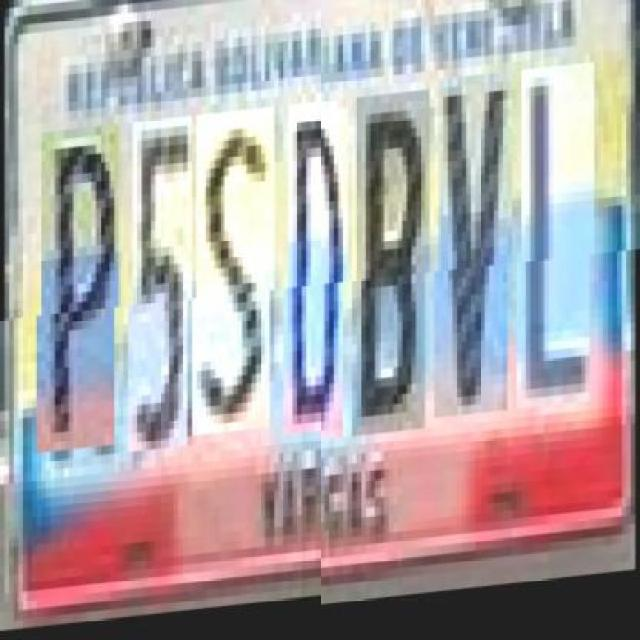5: (132, 130, 192, 464)
b: (356, 100, 430, 445)
d: (288, 116, 348, 450)
l: (520, 75, 594, 420)
p: (41, 135, 119, 463)
s: (197, 122, 274, 450)
v: (438, 83, 512, 428)
